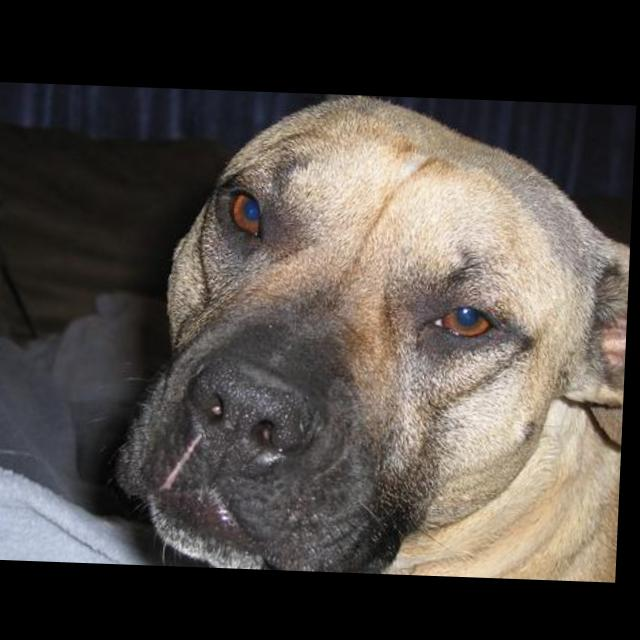amstaff: (114, 86, 638, 578)
